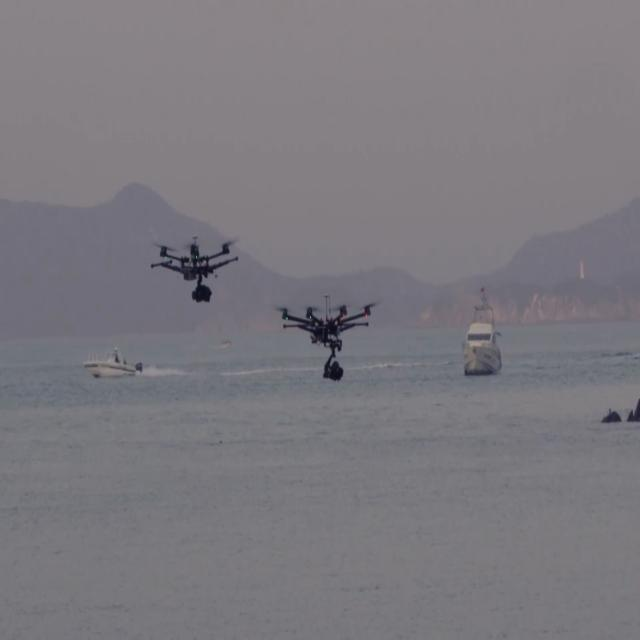drone: (136, 164, 228, 316), (275, 288, 380, 392)
